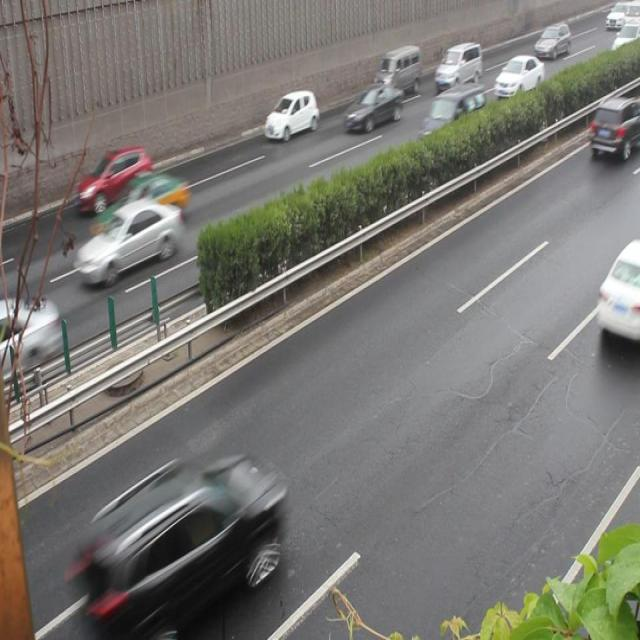car: (95, 459, 283, 634), (74, 199, 181, 288), (89, 173, 189, 247), (77, 143, 154, 215), (0, 296, 62, 383), (595, 241, 640, 340), (588, 95, 640, 165), (343, 83, 403, 133), (264, 89, 318, 140), (493, 54, 544, 100)
truck: (416, 82, 484, 150), (370, 45, 421, 96), (434, 42, 481, 90)
